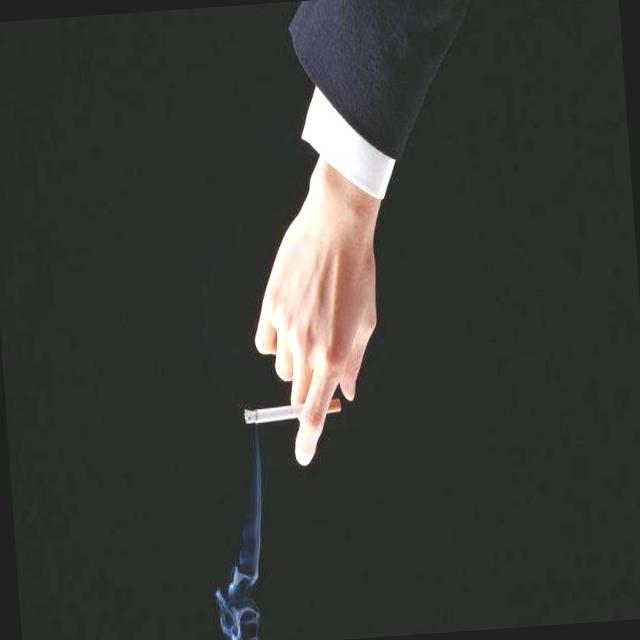cigarette: (237, 400, 295, 430)
